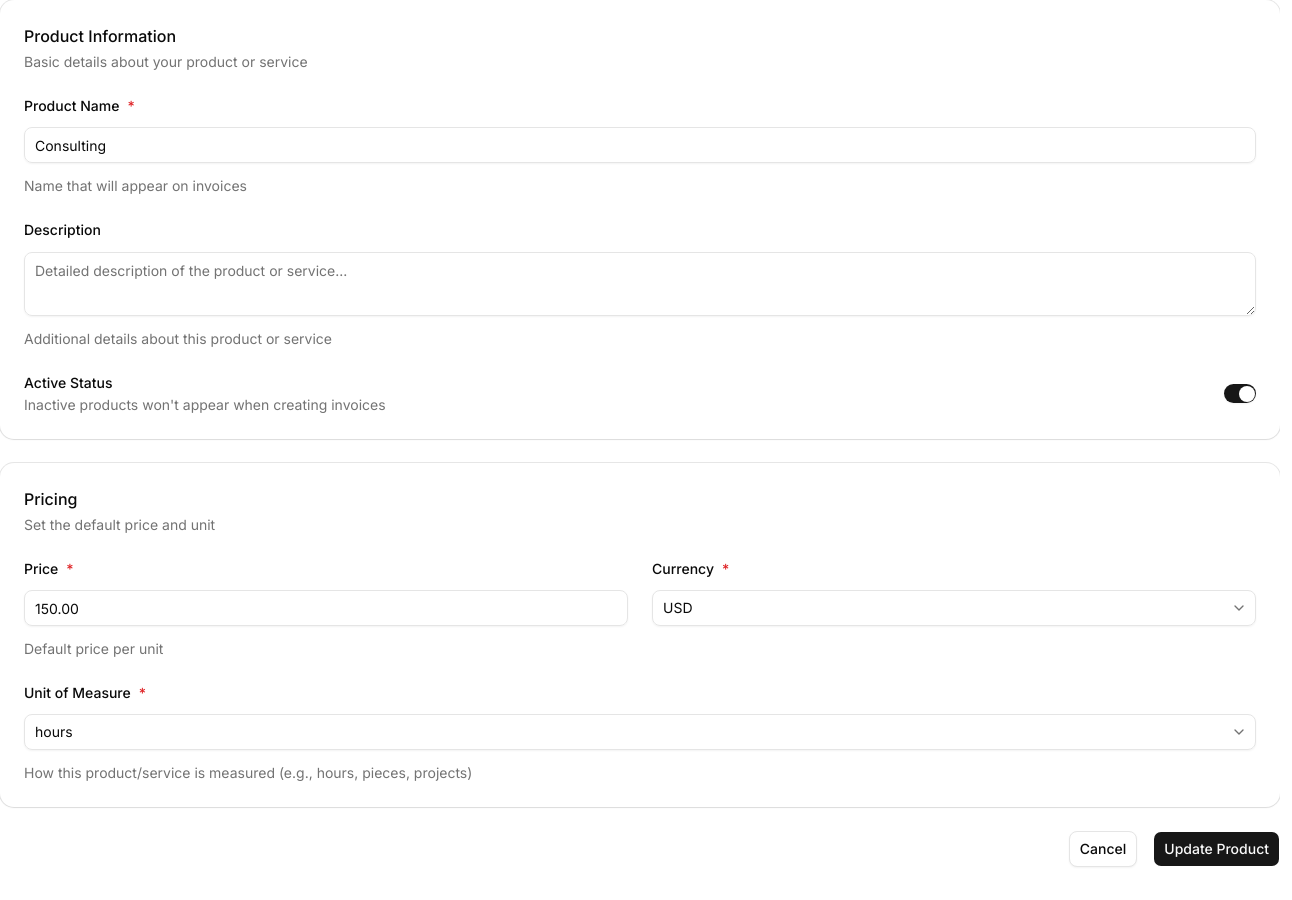
Test: ProductForm — price and currency lock (SCR-12) › price 12.345 shows Price can have at most 2 decimal places. under the price, nothing sent
Replace the text in the field with placeholder "100.00" with "12.345": (326, 608) [24,590,628,626]
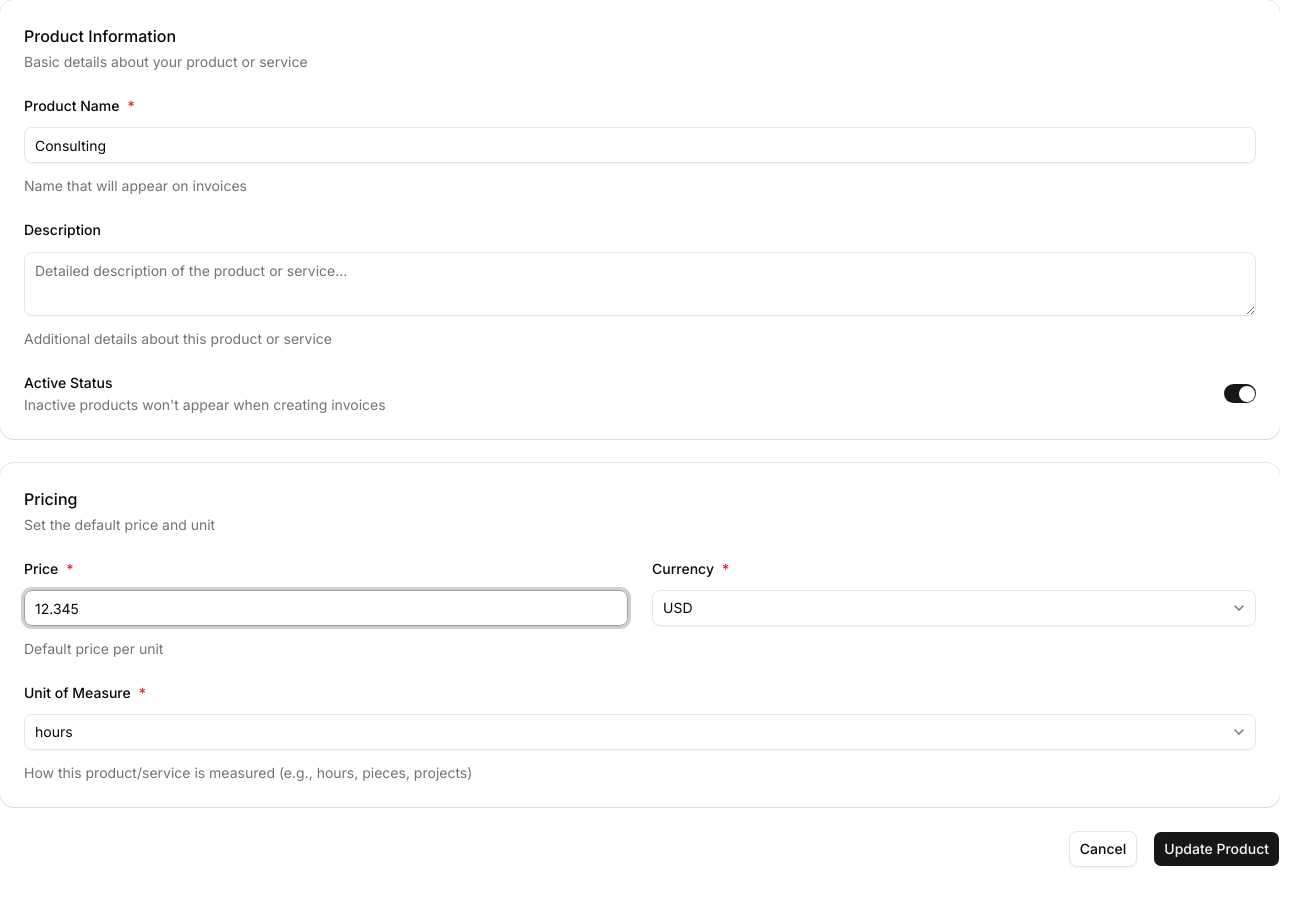
Click the button "Update Product": (1217, 849) [1153,831,1280,867]
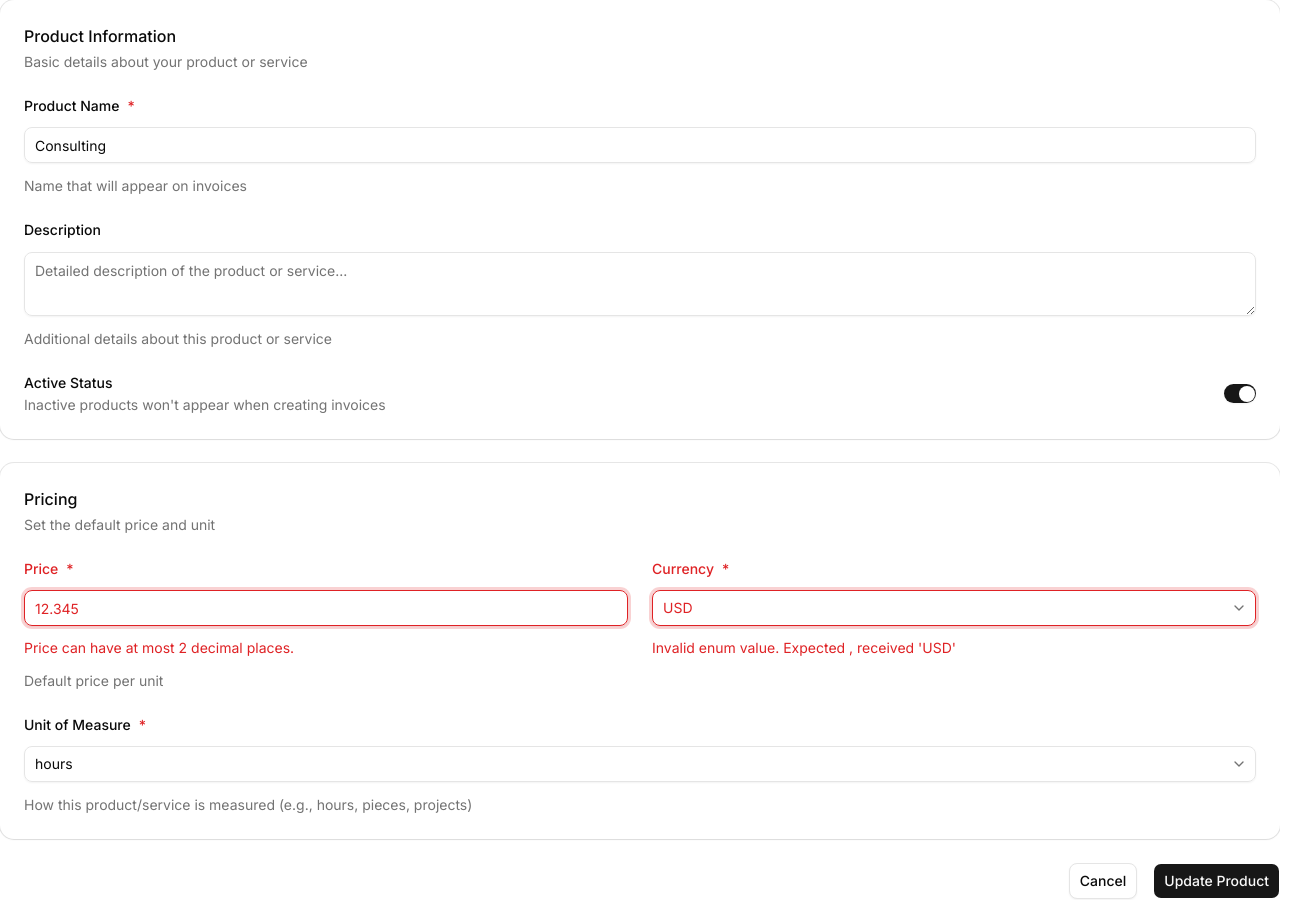
Expected: the text "Price can have at most 2 decimal places." is shown, [24,639,294,656]
